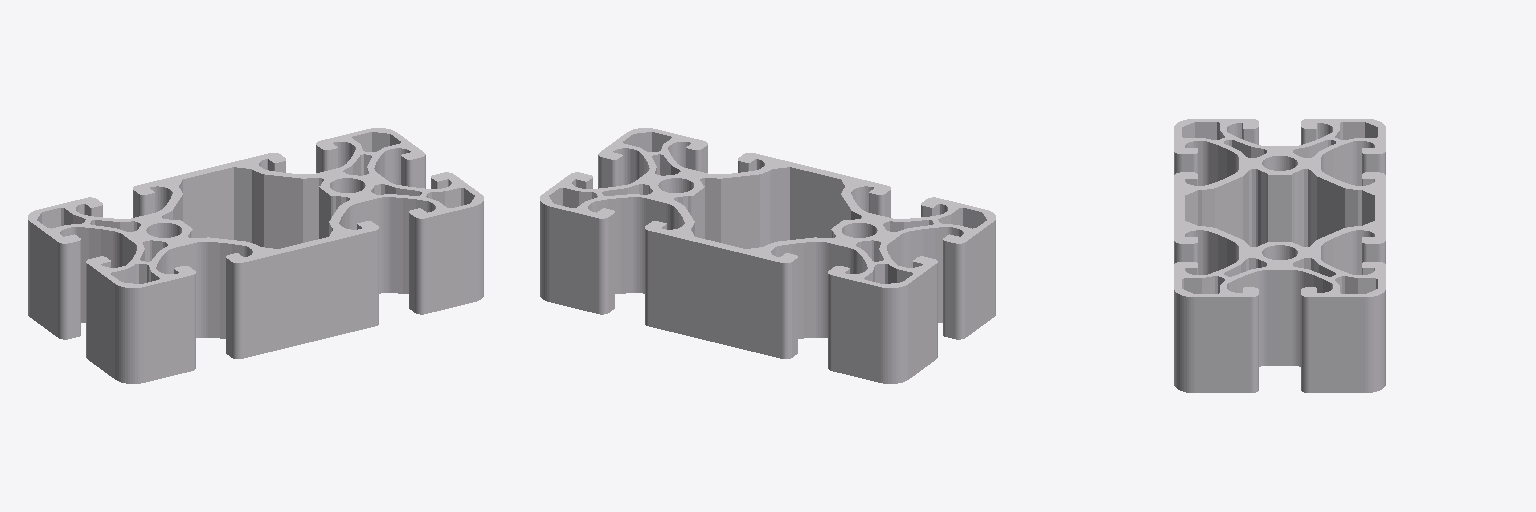
File: item_7000026_Profile_8_80x40_E_L=20_1.obj
3 renders of one model, left to right at view 1: azimuth 30°, elevation 25°; view 2: azimuth 150°, elevation 25°; view 3: azimuth 270°, elevation 25°, orthographic.
Visible parts, largest first — view 1: [number redacted]F[number redacted]; view 2: [number redacted]F[number redacted]; view 3: [number redacted]F[number redacted].
Part boxes in pixels (x1,y1,x2,y2): [number redacted]F[number redacted]: (28,128,483,383); [number redacted]F[number redacted]: (540,128,995,383); [number redacted]F[number redacted]: (1174,119,1385,392).
Size of the model in its own units: 80 by 20 by 40.